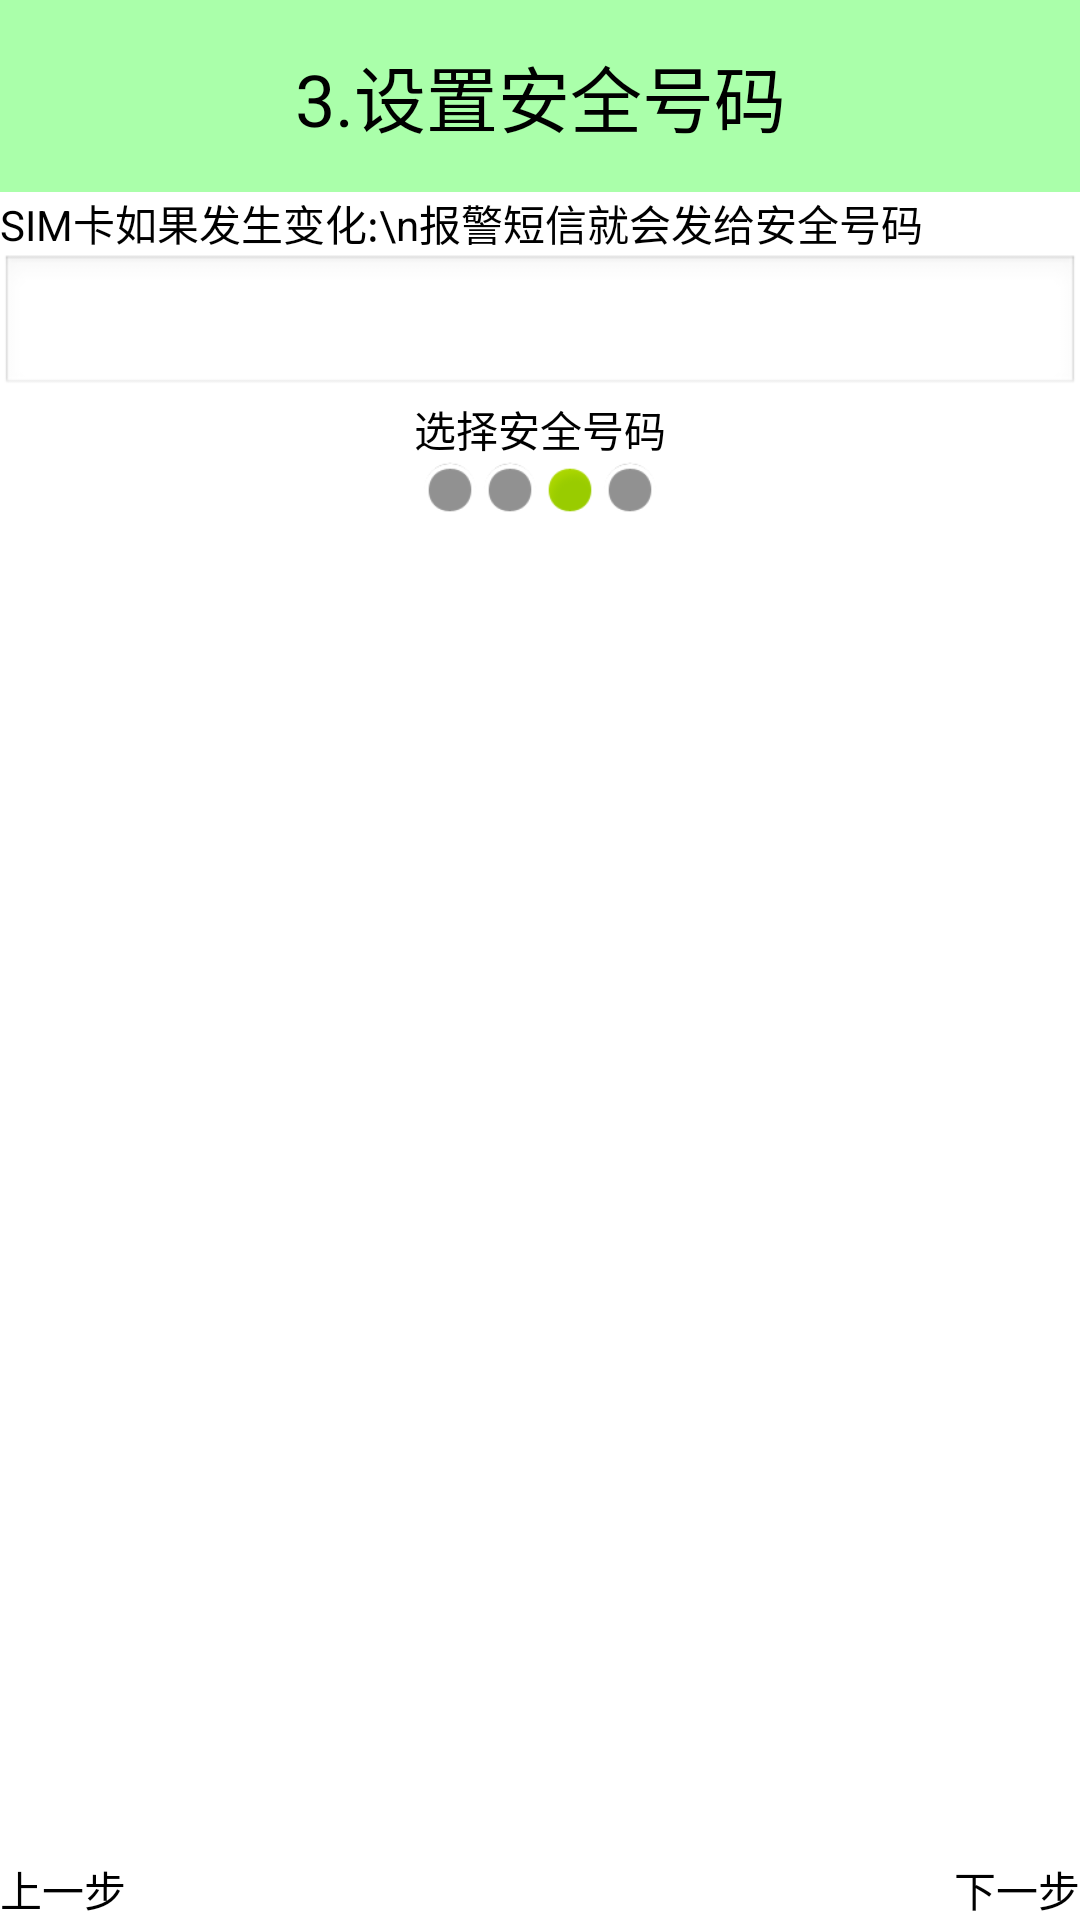

Where icons sit on this 1080*1920 app screen, as (x1, y1, x2, y2):
presence invisible: (428, 464, 472, 512), (488, 464, 532, 512), (608, 464, 652, 512)
presence online: (548, 468, 592, 512)
